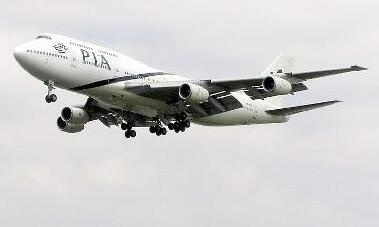airplane: (13, 26, 370, 139)
